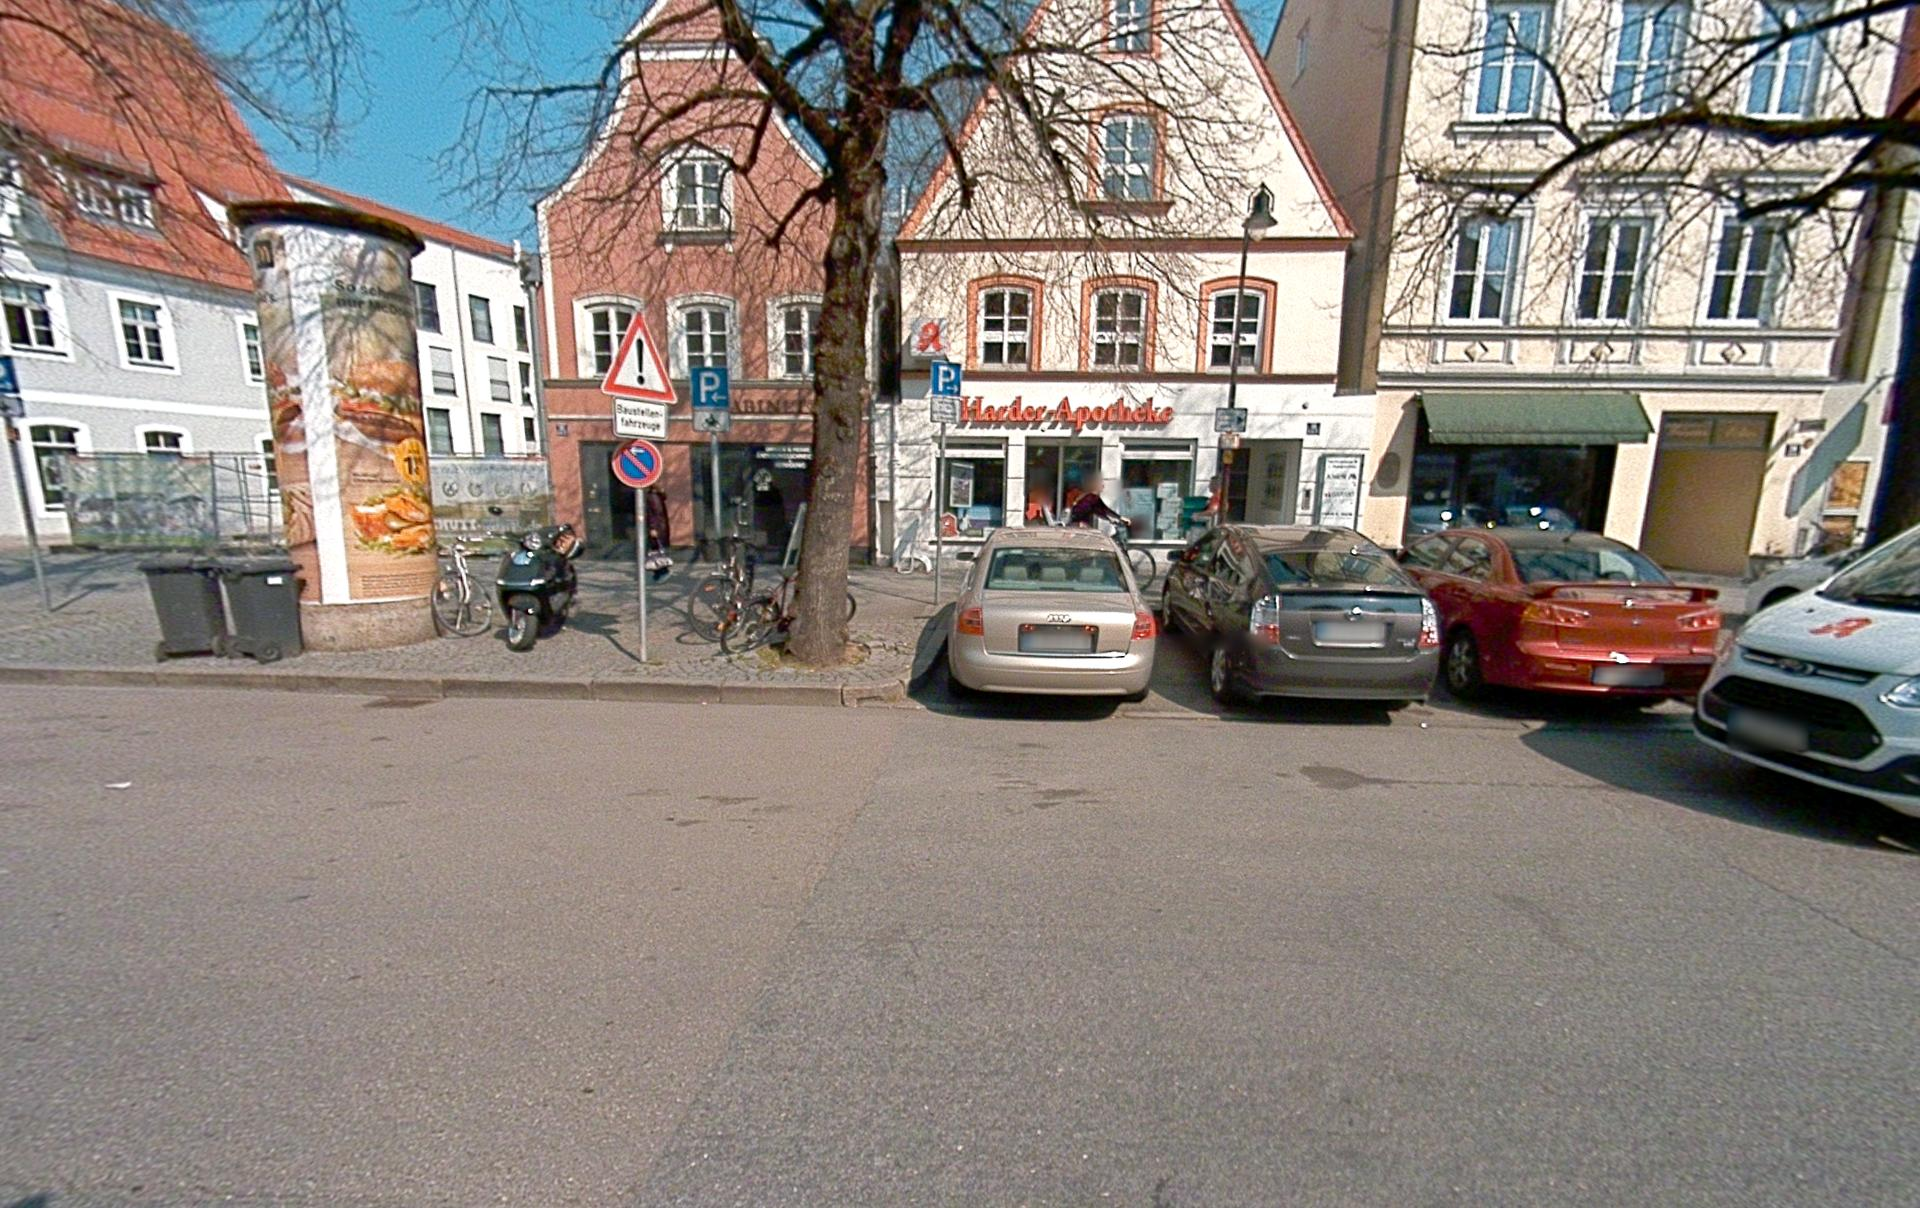car: (1692, 522, 1920, 820), (1387, 526, 1722, 707), (1160, 522, 1443, 708), (946, 526, 1158, 700)
traffic sign: (612, 398, 668, 440), (690, 366, 730, 408), (931, 360, 961, 395)
